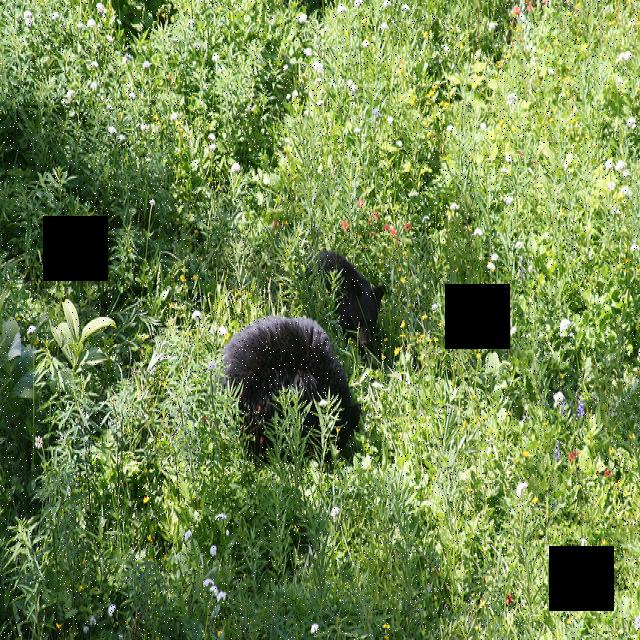Bear: (193, 290, 366, 459), (302, 242, 388, 350)
